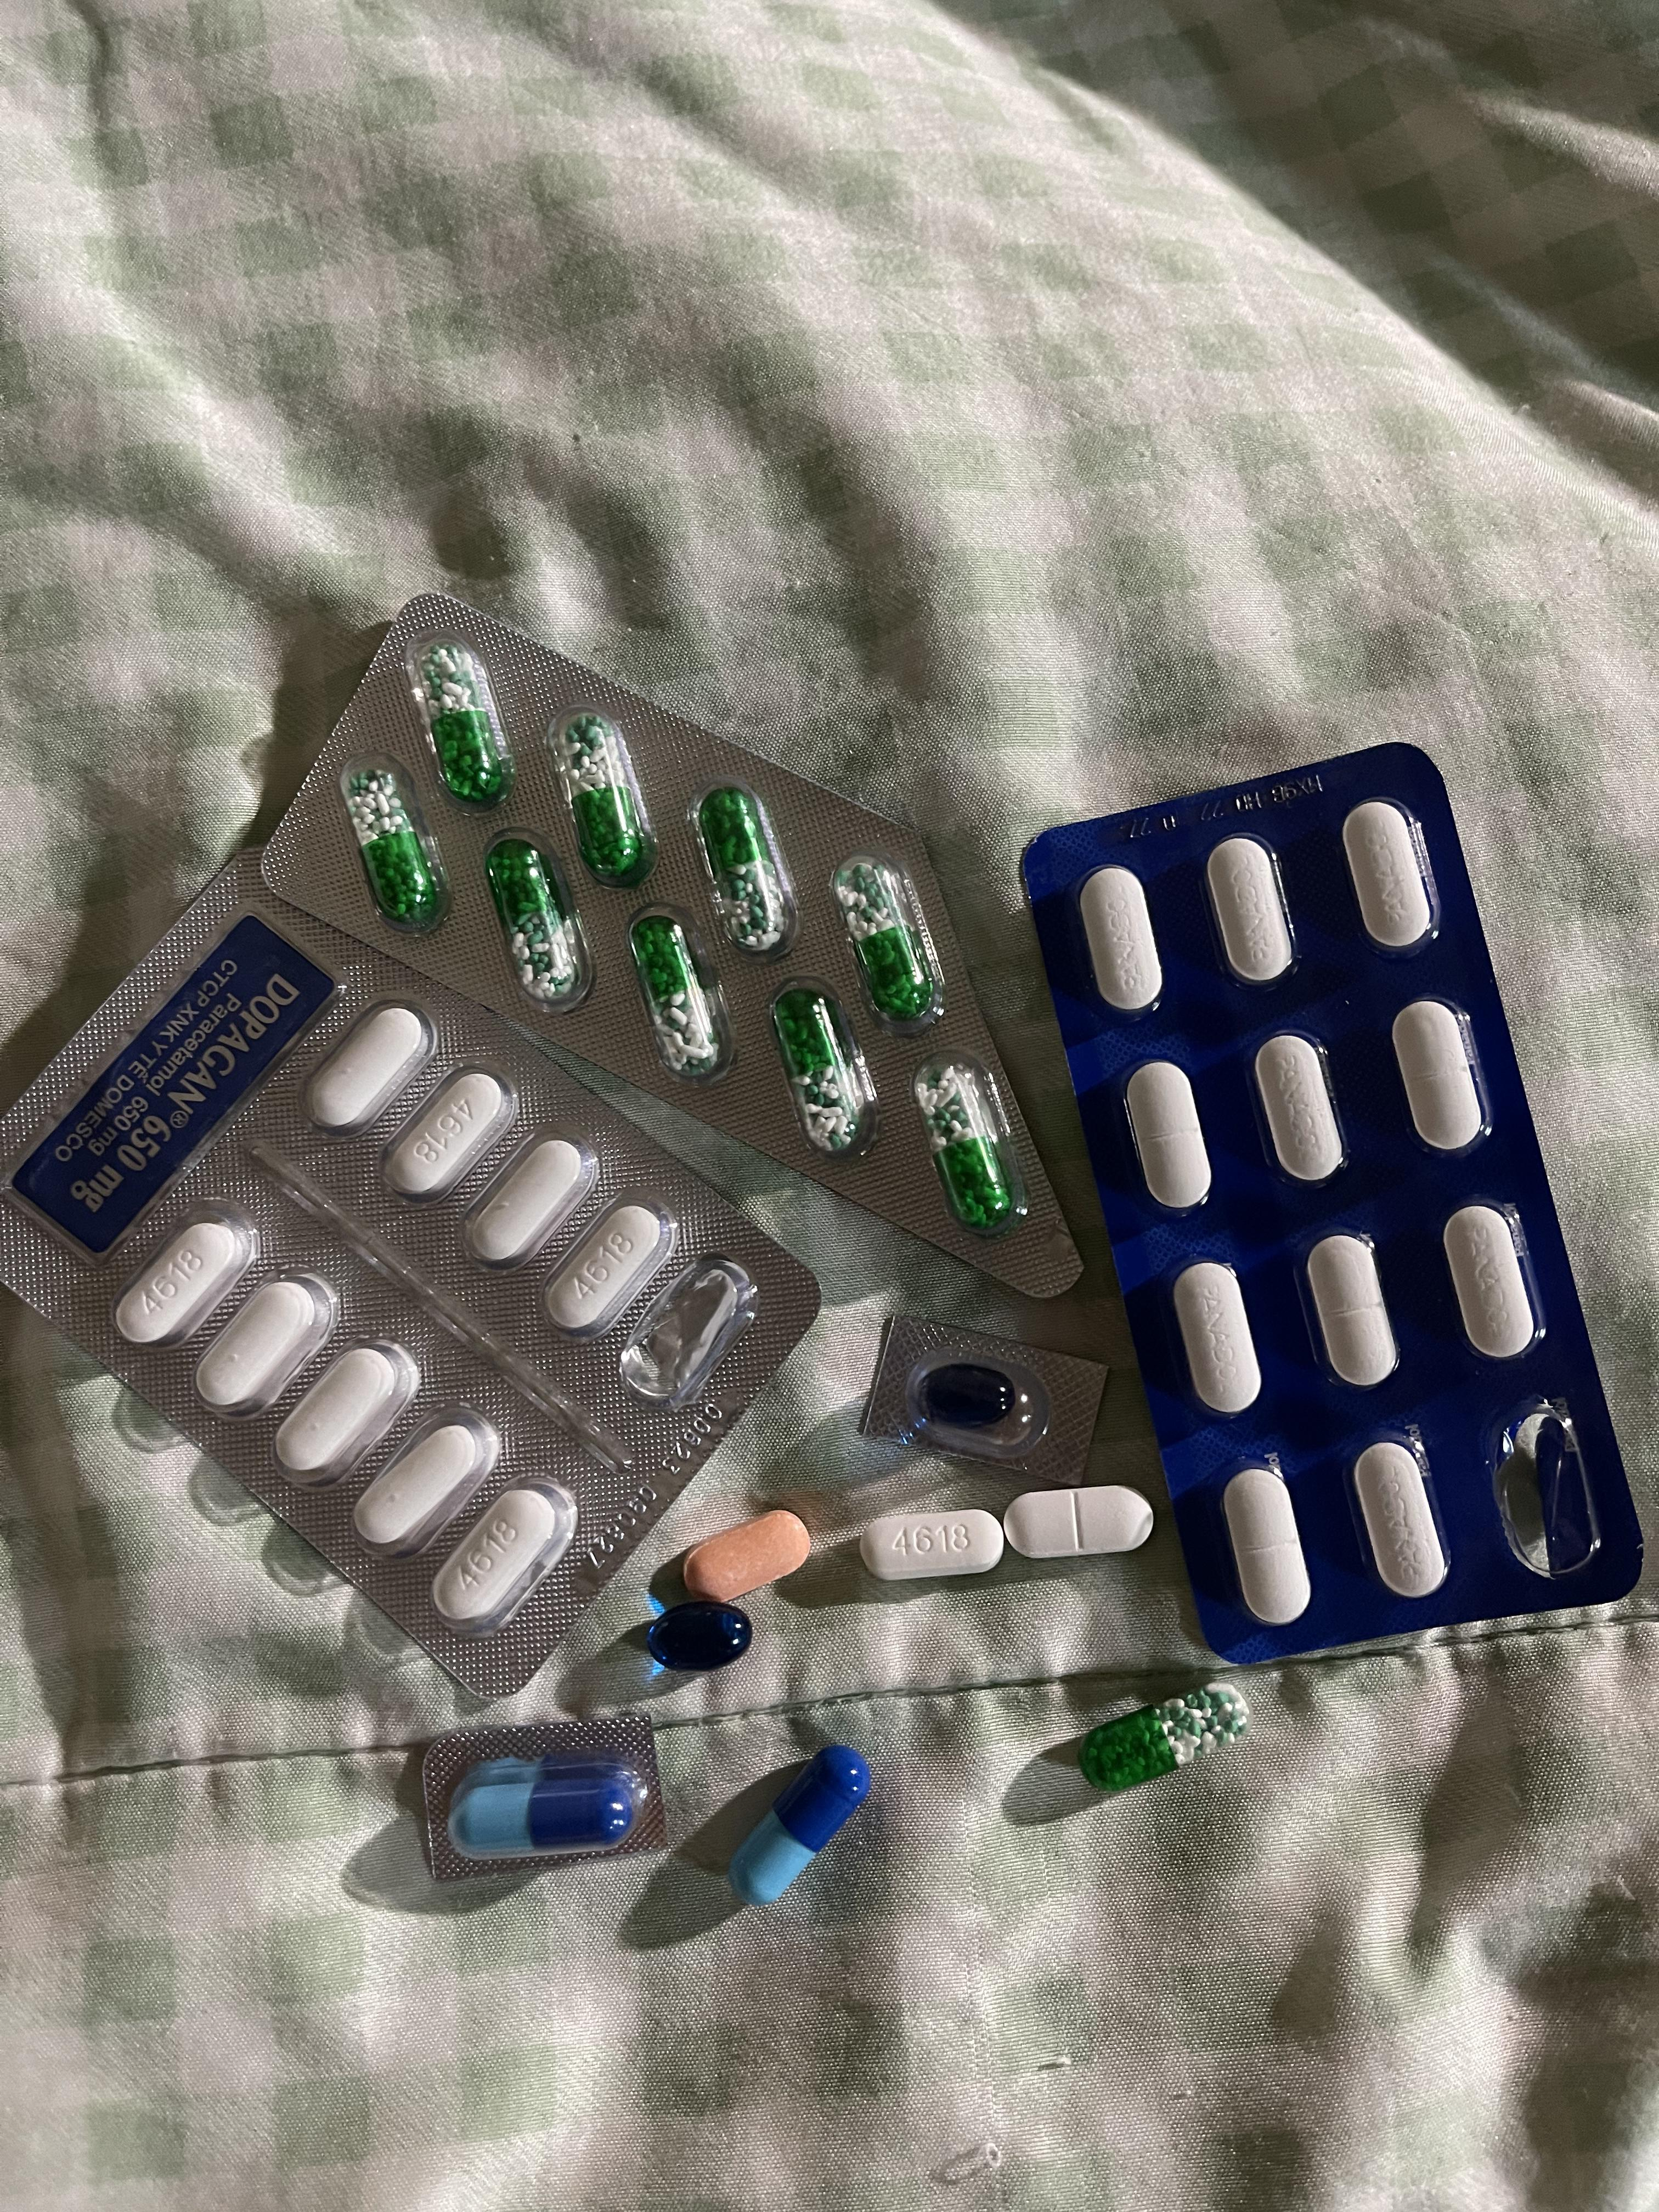Lincomyxin_500mg: (643, 1599, 756, 1670), (922, 1364, 1016, 1426)
Loratadine_10mg: (683, 1514, 805, 1602)
Paracetamol_350mg: (1304, 1233, 1401, 1392), (1443, 1205, 1541, 1364), (1352, 1442, 1450, 1601), (1392, 1001, 1488, 1157), (1345, 801, 1438, 954), (1253, 1035, 1345, 1186), (1173, 1263, 1262, 1420), (1206, 838, 1298, 988), (1223, 1468, 1310, 1625), (1075, 867, 1157, 1015), (1126, 1061, 1208, 1209), (1007, 1484, 1159, 1555)
Paracetamol_500mg: (429, 1477, 582, 1629), (274, 1331, 423, 1484), (193, 1263, 340, 1420), (115, 1204, 260, 1348), (378, 1059, 518, 1207), (542, 1191, 674, 1339), (354, 1416, 490, 1552), (307, 1005, 429, 1129), (467, 1137, 586, 1263), (861, 1505, 1002, 1581)
Paracetamol_650mg: (915, 1054, 1011, 1226), (1084, 1683, 1236, 1789), (775, 989, 866, 1158), (484, 840, 579, 996), (418, 643, 507, 805), (347, 768, 439, 921), (840, 862, 931, 1017), (699, 792, 784, 951), (559, 716, 643, 874), (633, 920, 714, 1068)
pill: (450, 1750, 657, 1858), (732, 1743, 861, 1907)
